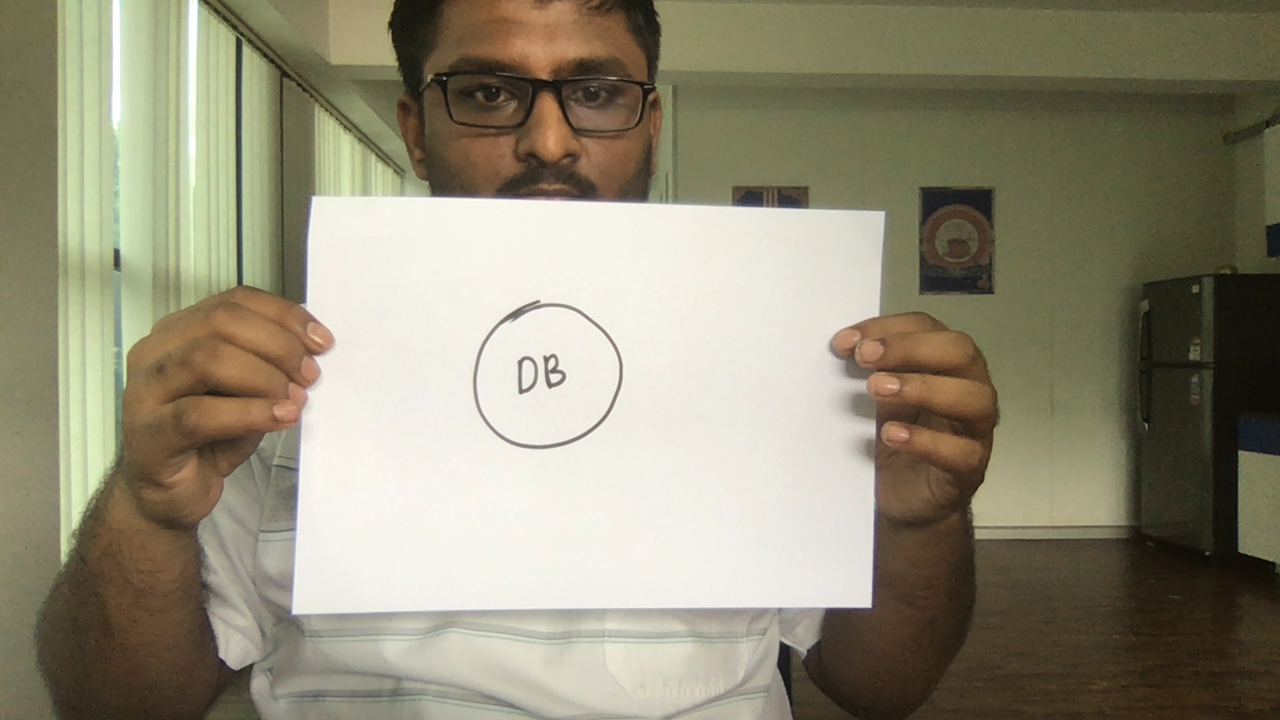db: (467, 295, 629, 458)
